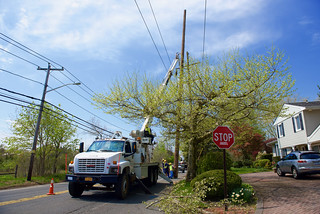StopSign: (212, 125, 235, 148)
